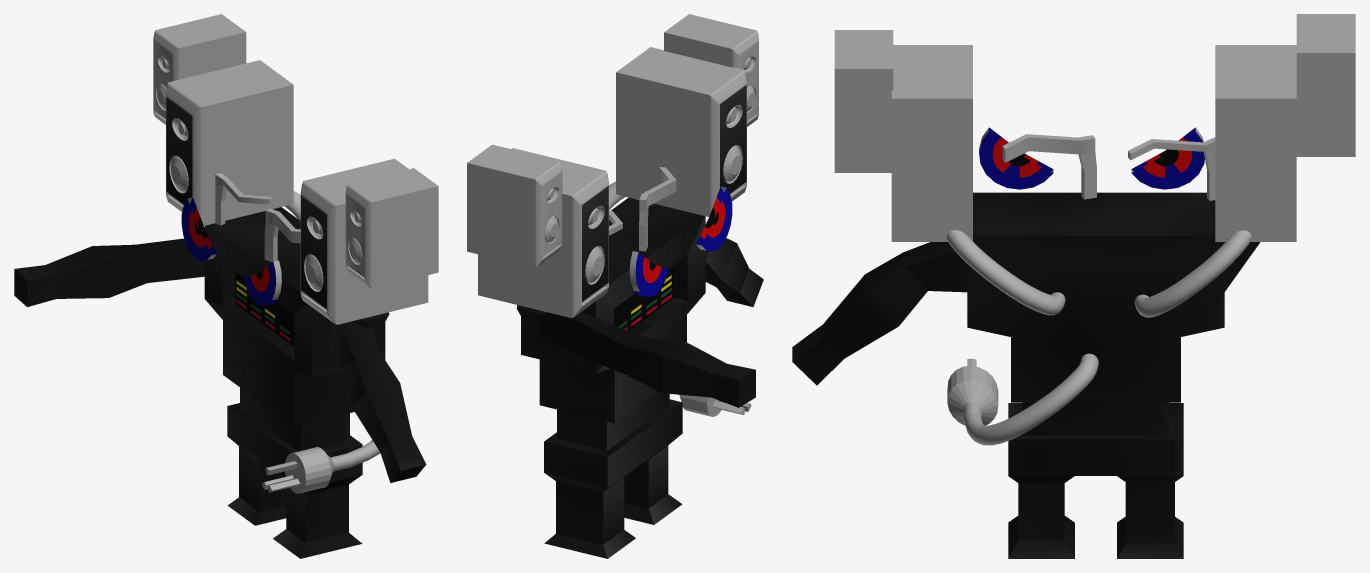
Rendered from Boss.fbx.
The picture shows the model from 3 angles, left to right: view 1: azimuth 30°, elevation 25°; view 2: azimuth 150°, elevation 25°; view 3: azimuth 270°, elevation 25°; orthographic projection. The views are drawn at different scales.
Parts seen in each view (by area): view 1: polySurface7; view 2: polySurface7; view 3: polySurface7.
Boxes of the visible parts, x1=… form: polySurface7: x1=14, y1=14, x2=438, y2=558; polySurface7: x1=467, y1=14, x2=763, y2=558; polySurface7: x1=792, y1=14, x2=1355, y2=558.
Size of the model in its own units: 392 by 572 by 574.
7 materials, 3 textured.
